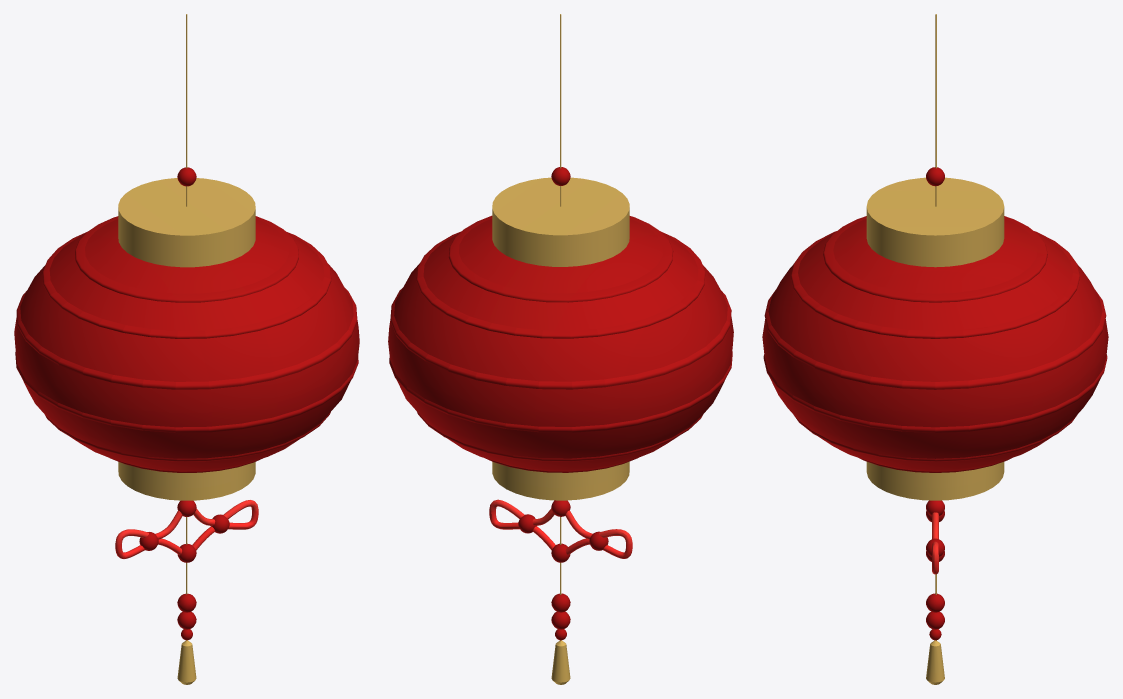
File: 3D_Lantern.glb
3 views of the same model, side by side, from view 1: azimuth 30°, elevation 25°; view 2: azimuth 150°, elevation 25°; view 3: azimuth 270°, elevation 25° (orthographic).
Visible parts, largest first — view 1: Sphere, Cylinder, BézierCurve, Cylinder.002; view 2: Sphere, Cylinder, BézierCurve, Cylinder.002; view 3: Sphere, Cylinder, Cylinder.002.
Boxes of the visible parts, bbox=[...] form: Sphere: bbox=[14, 216, 359, 472]; Cylinder: bbox=[118, 178, 255, 500]; BézierCurve: bbox=[115, 500, 258, 558]; Cylinder.002: bbox=[177, 640, 196, 684]; Sphere: bbox=[388, 215, 733, 472]; Cylinder: bbox=[492, 177, 629, 500]; BézierCurve: bbox=[489, 499, 632, 558]; Cylinder.002: bbox=[551, 640, 570, 684]; Sphere: bbox=[762, 216, 1108, 472]; Cylinder: bbox=[866, 177, 1004, 500]; Cylinder.002: bbox=[926, 640, 944, 684].
Size of the model in its own units: 0.5031 by 1.07 by 0.5027.
Materials: 2 (2 with a texture image).
